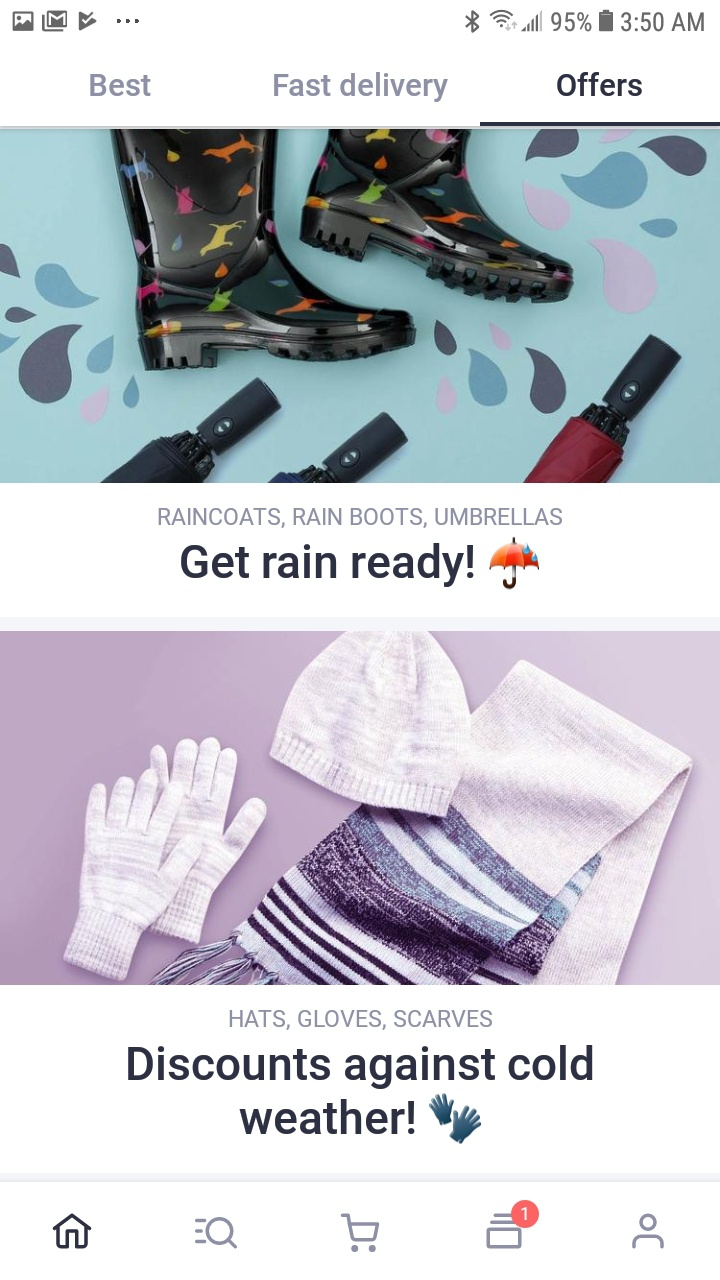Icon: (486, 1200, 540, 1250), (341, 1212, 381, 1253), (53, 1213, 93, 1250), (195, 1217, 239, 1250), (631, 1212, 665, 1249)
Image: (1, 130, 720, 484), (1, 631, 720, 985), (428, 1092, 482, 1144), (488, 537, 540, 591)
Text: (129, 1044, 594, 1135), (181, 542, 475, 588), (158, 508, 563, 529), (229, 1010, 493, 1031), (274, 72, 449, 103), (556, 72, 643, 98), (90, 74, 152, 98)
UpperTaskBar: (1, 1, 720, 35)
